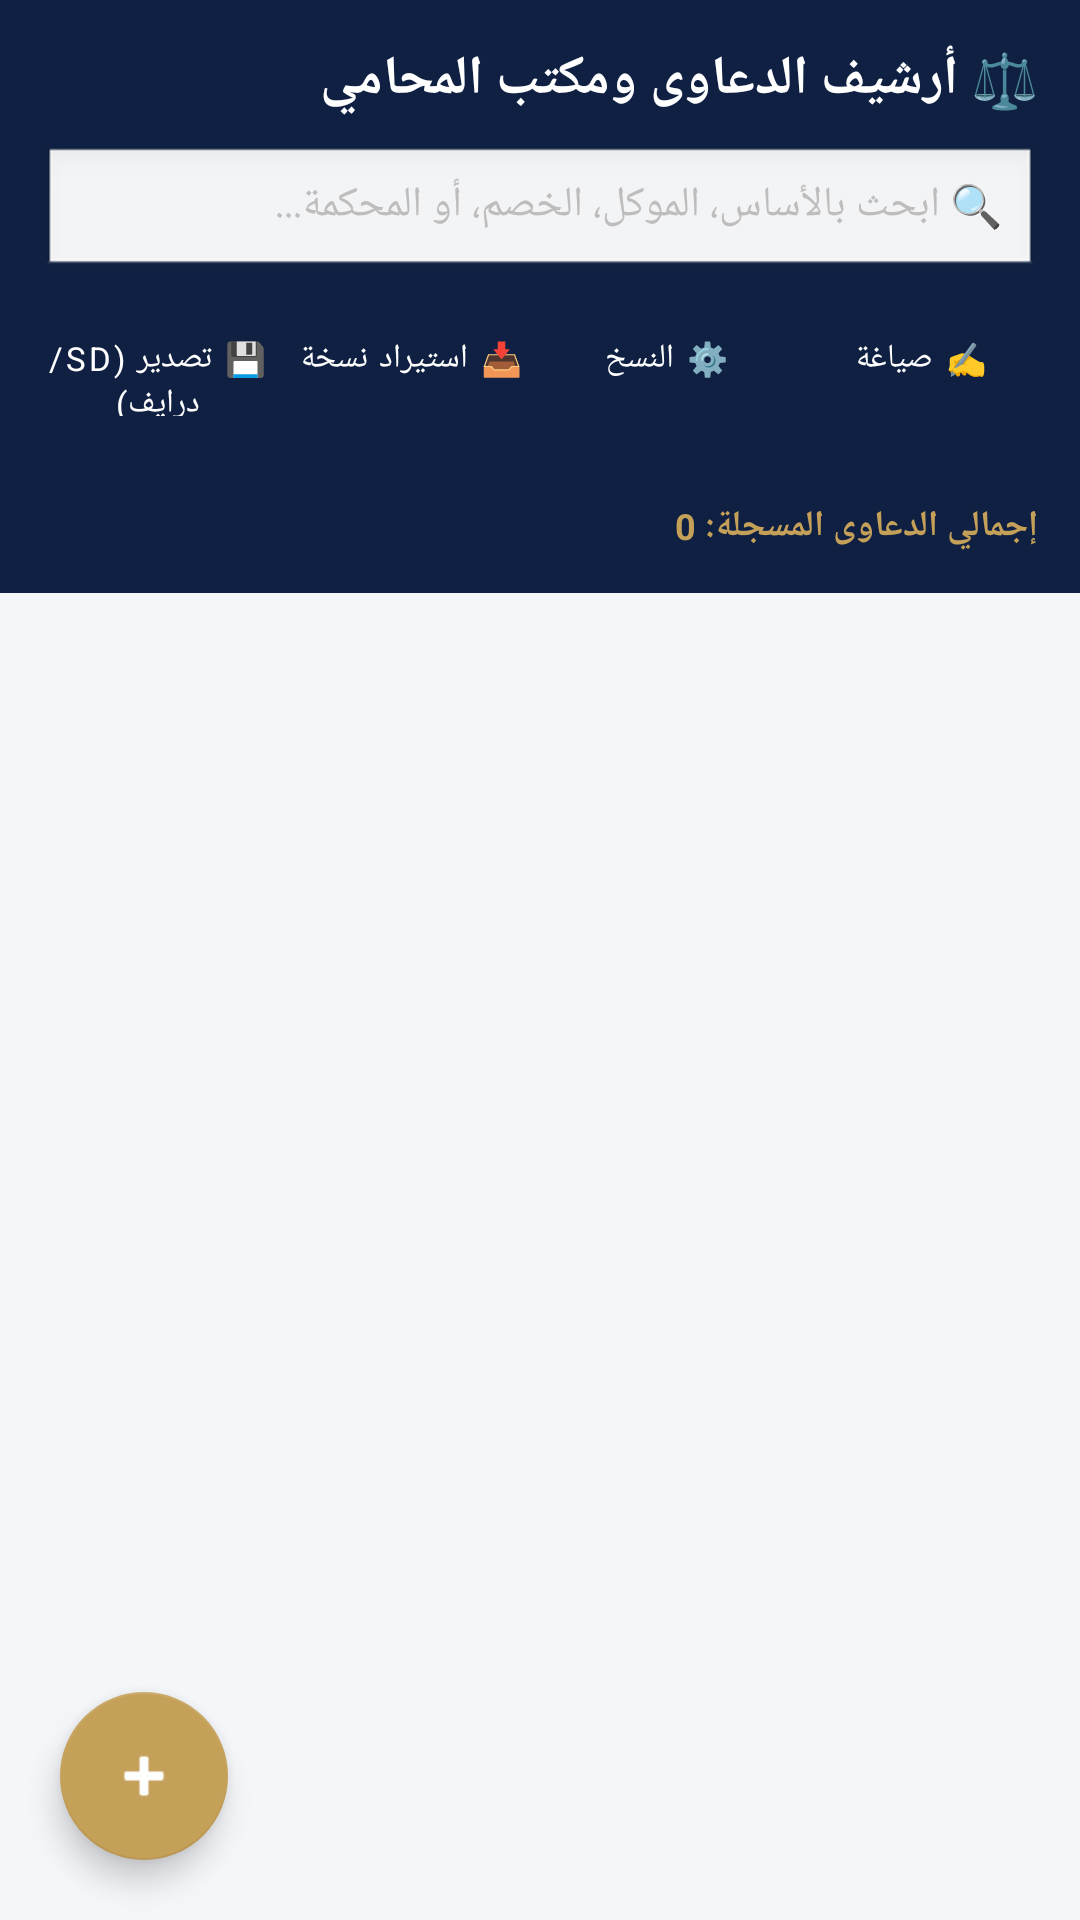

Screen size 1080px×1920px. Icon name, then its box in pixels as box(x1, y1, x2, y2):
إضافة دعوى جديدة: box(60, 1692, 228, 1860)
